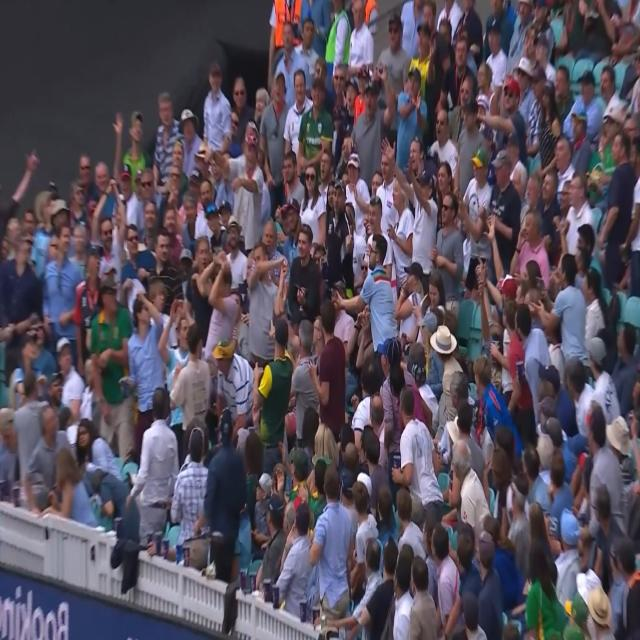ball: (280, 258, 287, 270)
